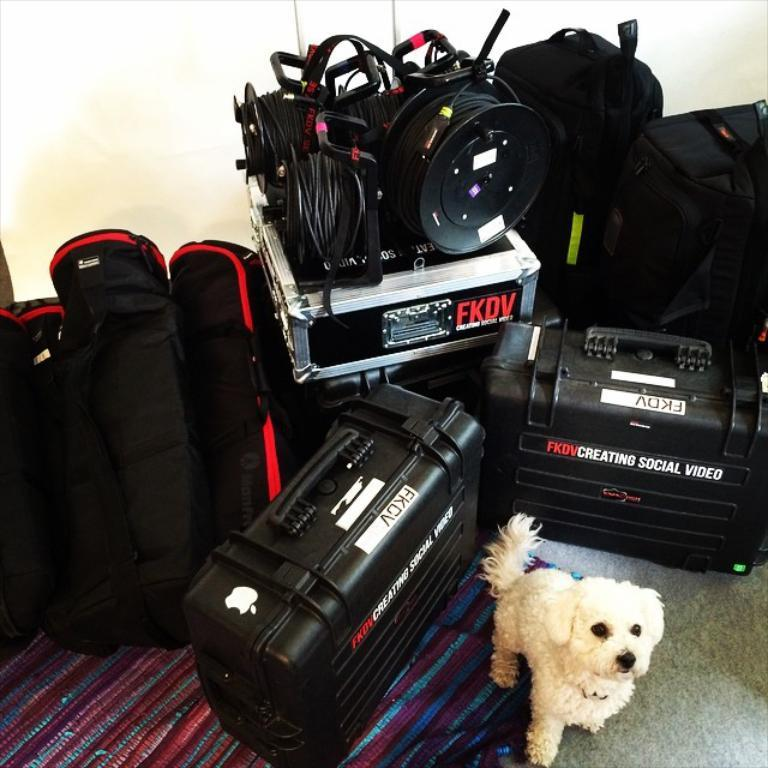Luggage-and-bags: (479, 320, 767, 571), (494, 22, 671, 294), (606, 101, 767, 335)
